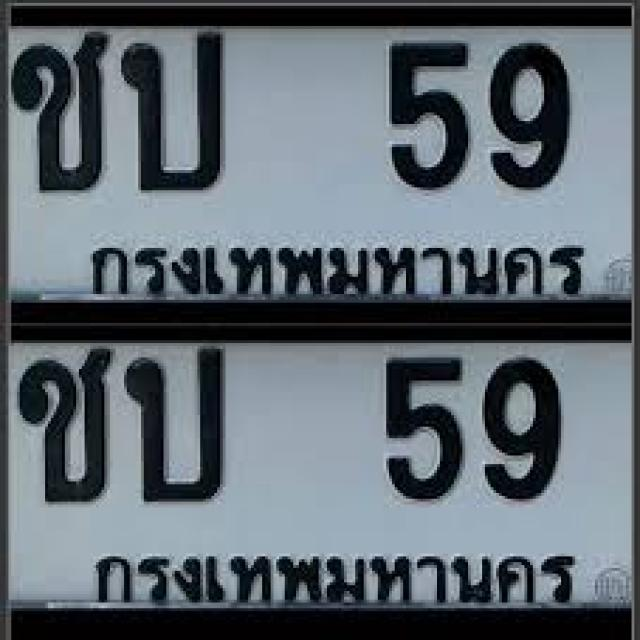A27: (122, 29, 235, 191), (131, 348, 229, 506)
